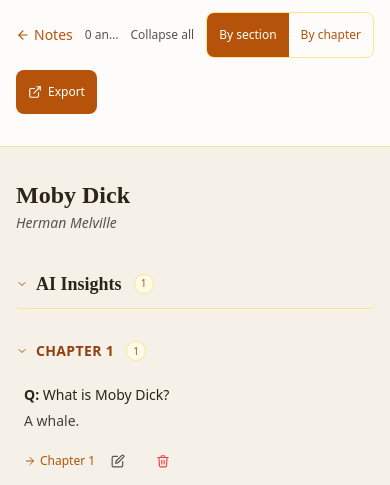
it: clicking AI Insights heading collapses insights section (line 473)
Expected: the text "Q: What is Moby Dick?" is shown, [24, 385, 169, 404]
Click the button "AI Insights 1" at (79, 284), box [16, 265, 374, 309]
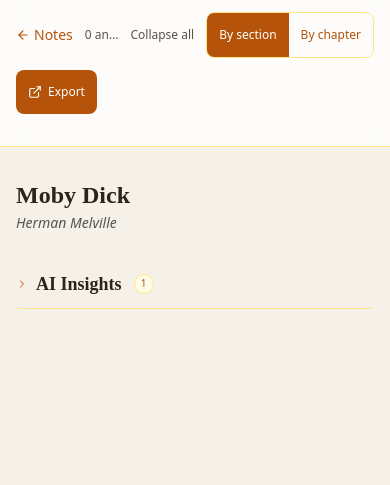
Expected: the text "What is Moby Dick" is gone
